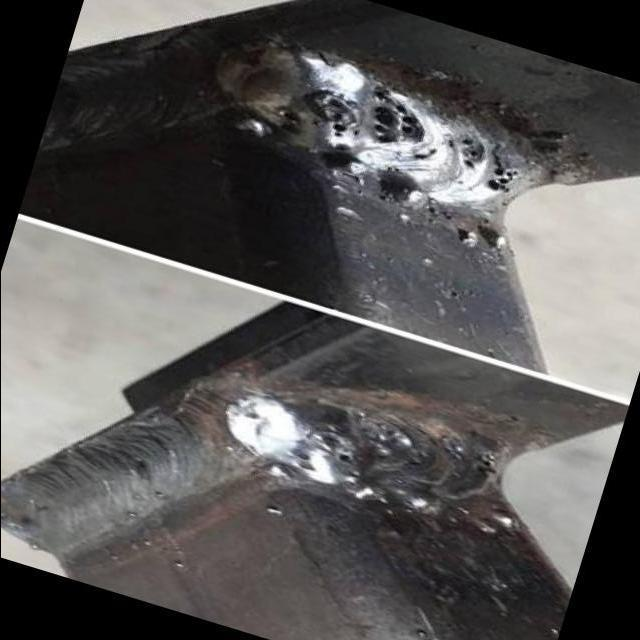defect: (453, 133, 522, 198), (362, 84, 432, 147), (304, 90, 363, 140), (309, 424, 360, 466), (288, 446, 319, 476)
